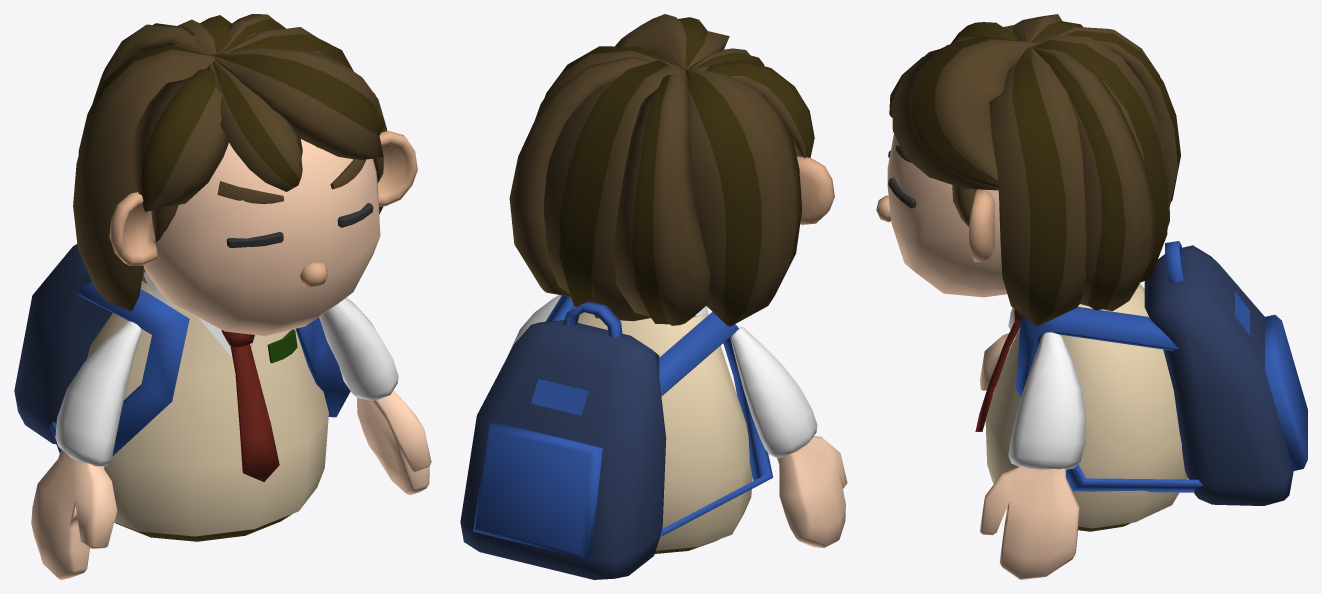
File: H_Student_W_01.fbx
3 renders of one model, left to right at view 1: azimuth 30°, elevation 25°; view 2: azimuth 150°, elevation 25°; view 3: azimuth 270°, elevation 25°, orthographic. The views are drawn at different scales.
Parts seen in each view (by area): view 1: Object006; view 2: Object006; view 3: Object006.
Part boxes in pixels (x1,y1,x2,y2): Object006: [14, 14, 431, 579]; Object006: [460, 14, 847, 579]; Object006: [876, 14, 1307, 579].
Bounding box in the file's own units: 49.89 × 64.38 × 54.32.
